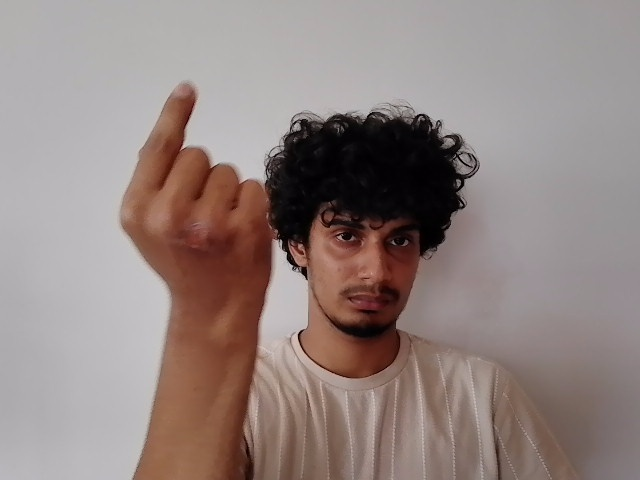just: (117, 74, 280, 301)
